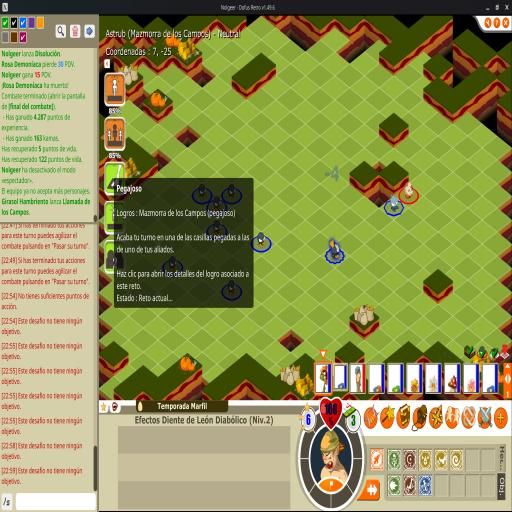Enemigos: (328, 237, 343, 259), (389, 192, 400, 212), (226, 279, 238, 296), (256, 231, 267, 248), (197, 183, 208, 200), (227, 183, 238, 200), (168, 255, 178, 272), (212, 219, 222, 236), (212, 196, 222, 212)
Personaje: (404, 181, 414, 199)
